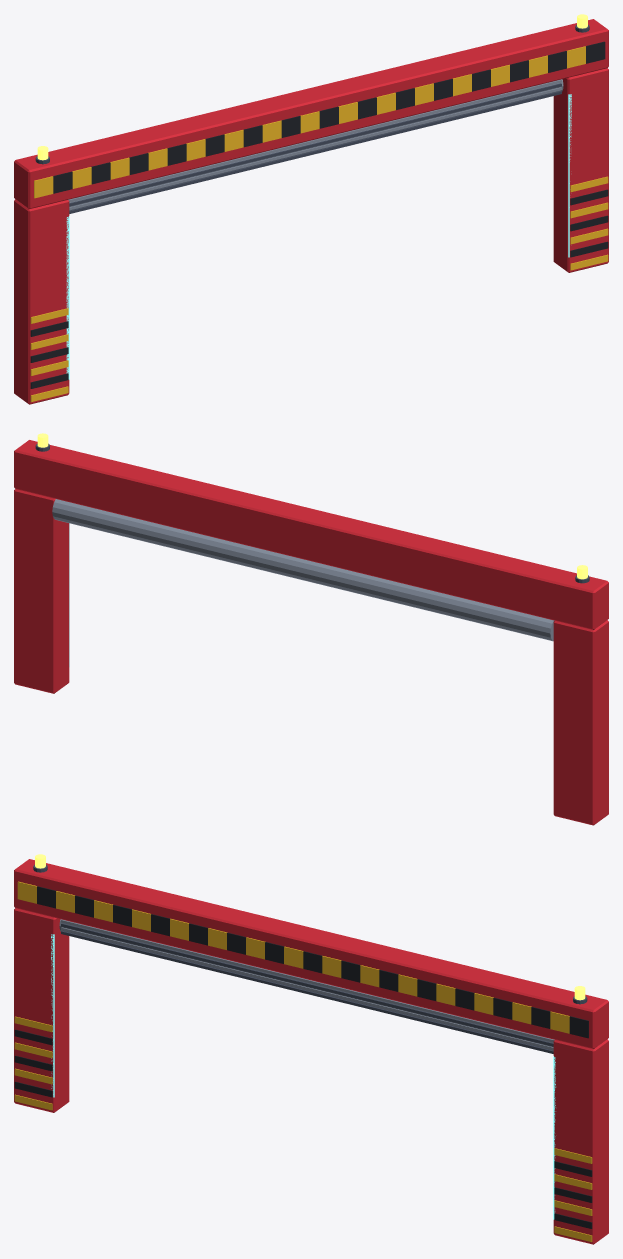
File: BayDoorFrame.fbx
3 renders of one model, top to bottom at view 1: azimuth 30°, elevation 25°; view 2: azimuth 150°, elevation 25°; view 3: azimuth 330°, elevation 25°, orthographic.
Visible parts, largest first — view 1: BayDoorFrame, Neon_Cyan; view 2: BayDoorFrame; view 3: BayDoorFrame, Neon_Cyan.
Boxes of the visible parts, x1,y1,x2,y2 form: BayDoorFrame: (14, 19, 608, 404); Neon_Cyan: (66, 94, 571, 379); BayDoorFrame: (14, 440, 608, 825); BayDoorFrame: (14, 859, 608, 1244); Neon_Cyan: (51, 934, 555, 1219).
Size of the model in its own units: 56 by 22.8 by 3.09.
Materials: 3 (1 with a texture image).
